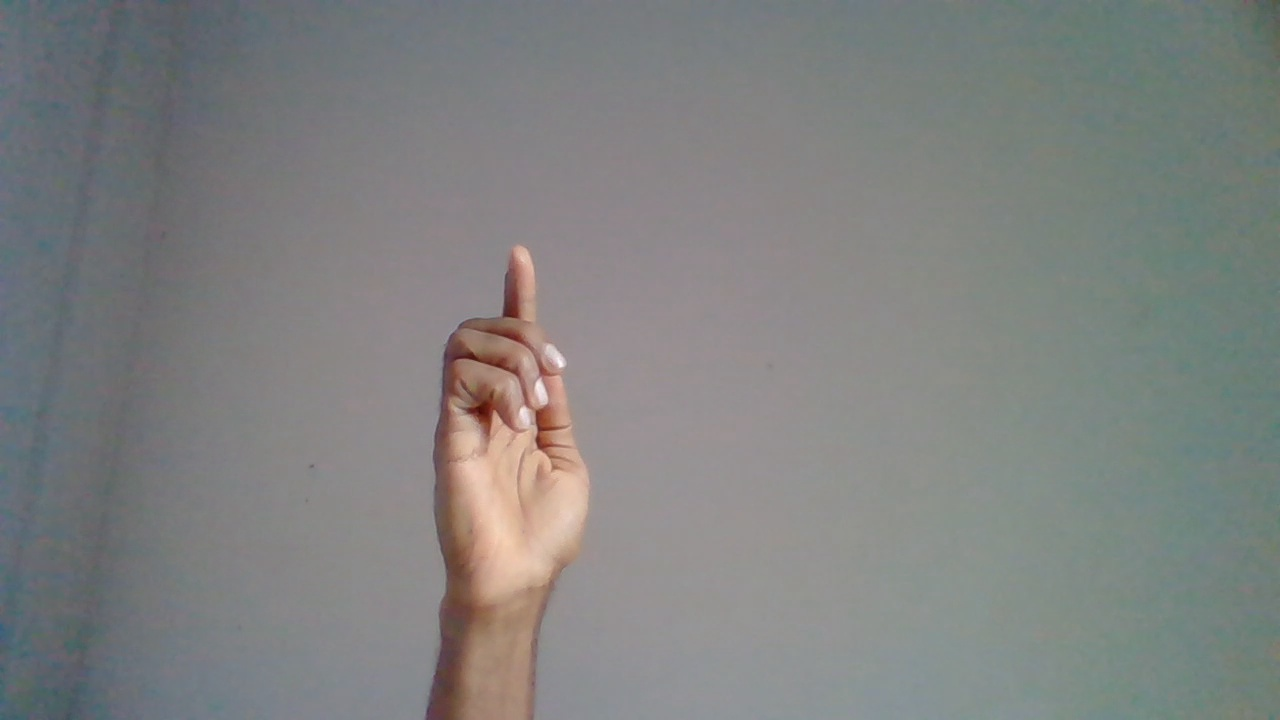qe: (432, 245, 595, 652)
